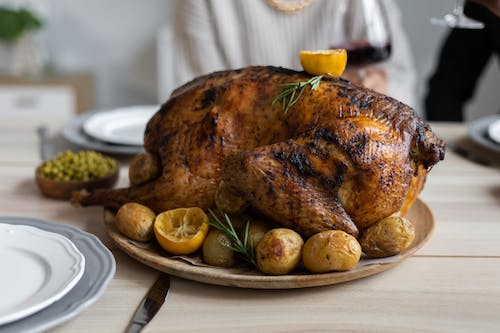knife: (121, 268, 173, 333)
